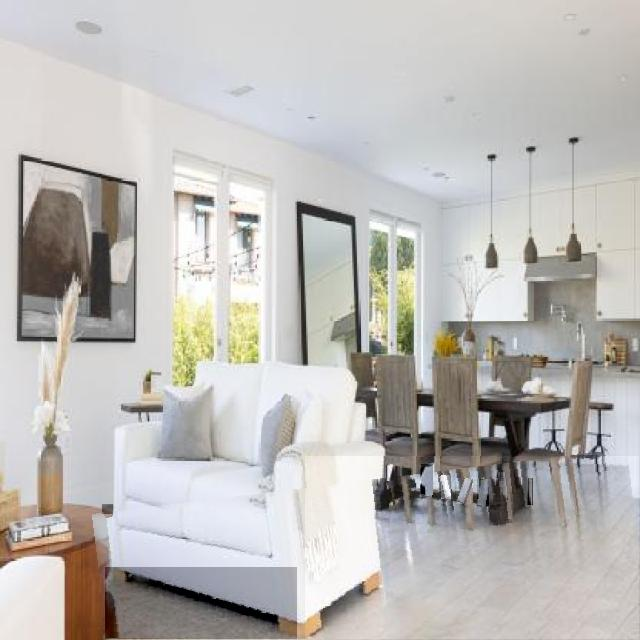floor: (306, 456, 639, 640), (106, 568, 295, 639), (456, 478, 473, 504), (422, 465, 433, 497), (477, 479, 489, 507), (441, 475, 451, 499), (502, 473, 508, 500), (528, 479, 533, 505), (102, 505, 113, 514), (389, 465, 395, 481)
